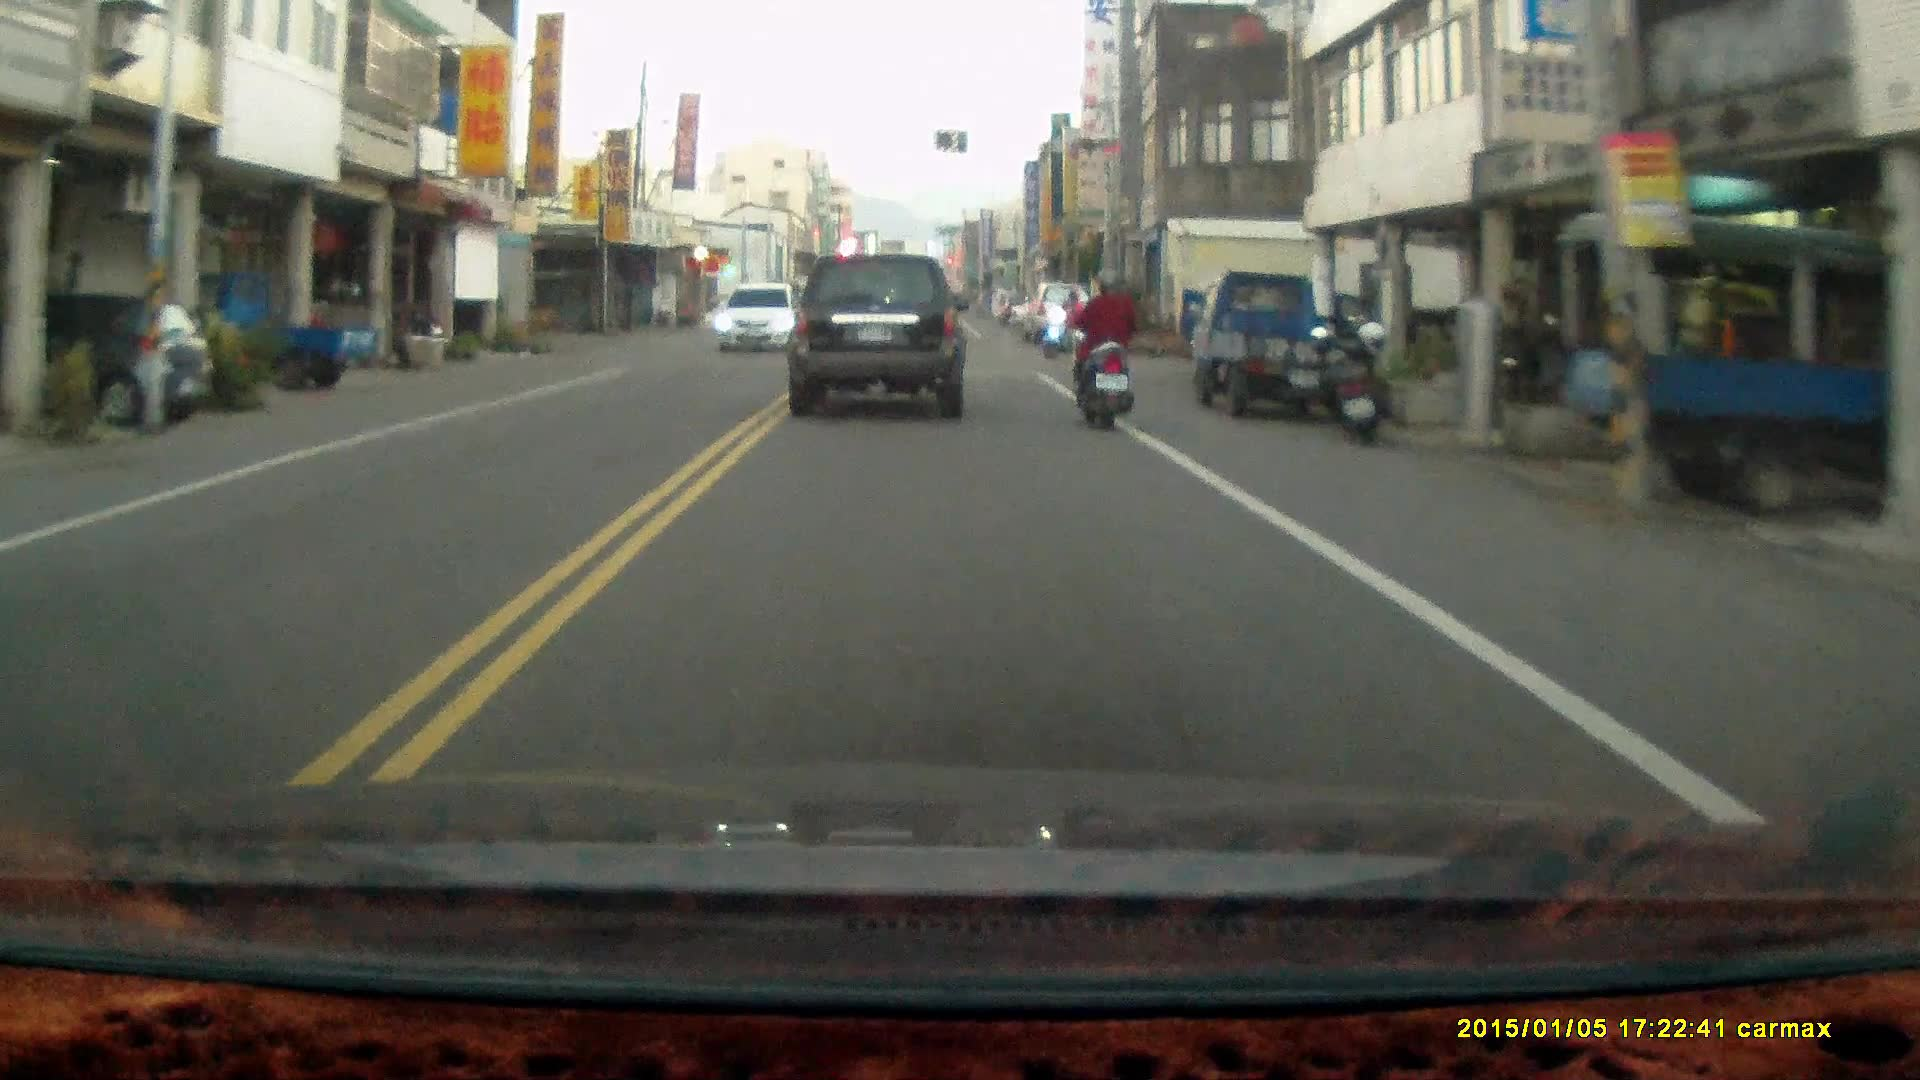rider: (1073, 267, 1134, 431), (1038, 291, 1086, 359)
vehicle: (1580, 217, 1920, 515), (789, 251, 970, 421), (1, 294, 209, 433), (1191, 274, 1384, 422), (179, 268, 384, 390), (716, 285, 800, 355)
